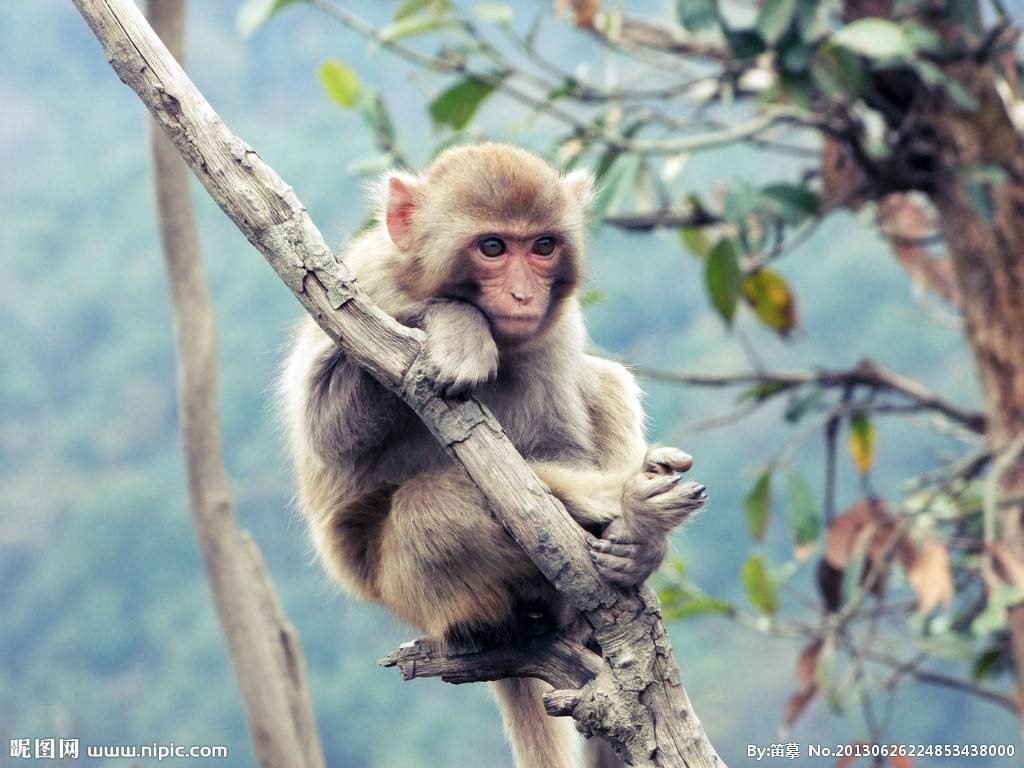monkey: (292, 106, 707, 663)
